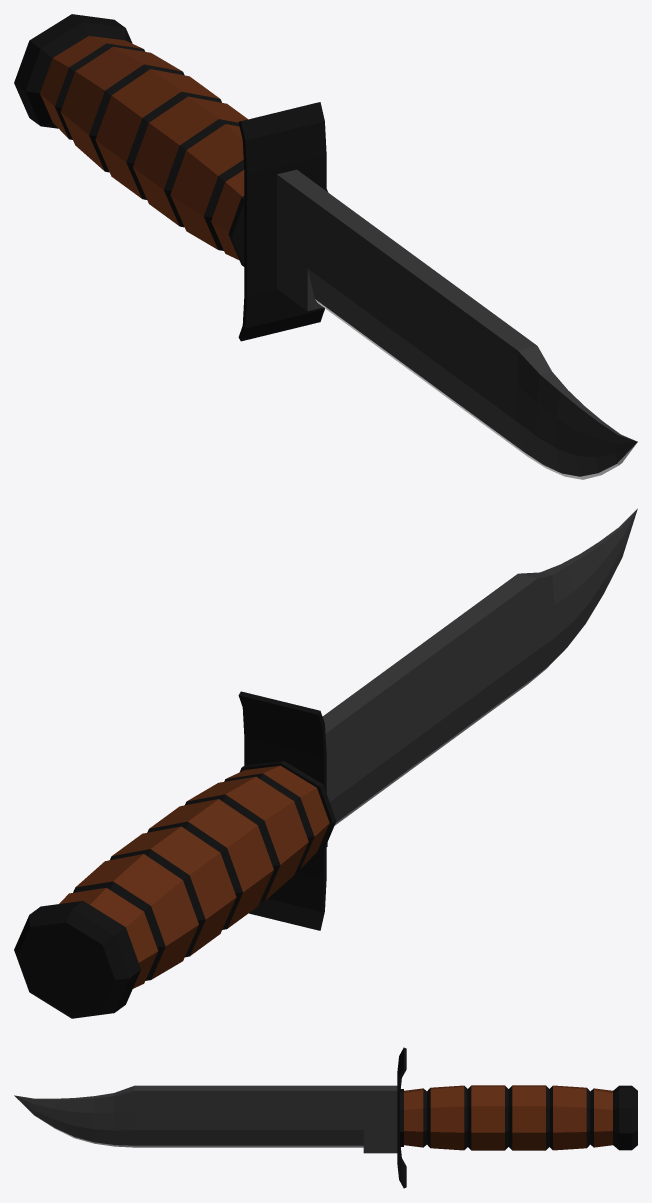
Rendered from melee_knife.glb.
3 views of the same model, one above another, from view 1: azimuth 30°, elevation 25°; view 2: azimuth 150°, elevation 25°; view 3: azimuth 270°, elevation 25° (orthographic). The views are drawn at different scales.
Parts seen in each view (by area): view 1: melee_knife; view 2: melee_knife; view 3: melee_knife.
Boxes of the visible parts, x1,y1,x2,y2 form: melee_knife: (14, 14, 637, 479); melee_knife: (14, 508, 637, 1018); melee_knife: (14, 1047, 637, 1188).
Bounding box in the file's own units: 0.0413 × 0.0749 × 0.3529.
